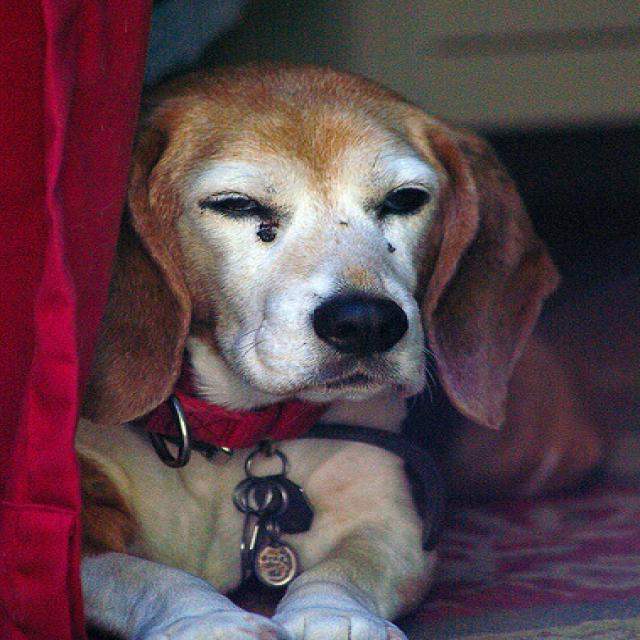dog-beagle: (61, 49, 594, 637)
